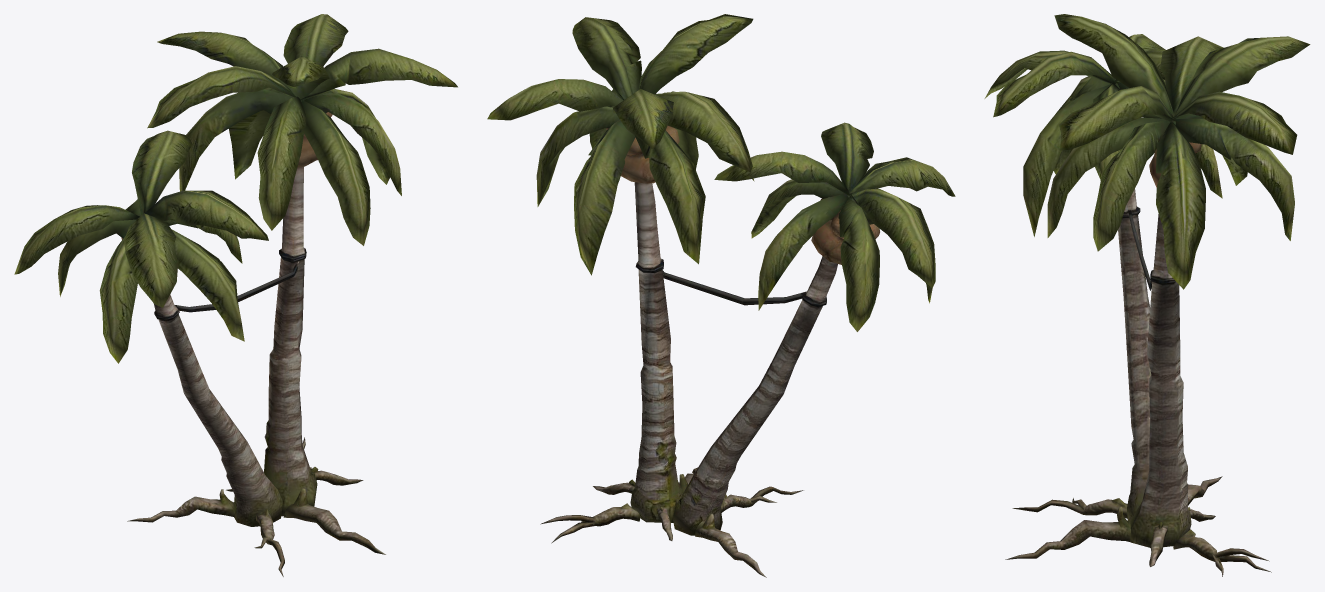
The model's file is coconut_palm.glb.
3 views of the same model, side by side, from view 1: azimuth 30°, elevation 25°; view 2: azimuth 150°, elevation 25°; view 3: azimuth 270°, elevation 25° (orthographic). The views are drawn at different scales.
Parts seen in each view (by area): view 1: Body; view 2: Body; view 3: Body.
Boxes of the visible parts, x1=… form: Body: x1=14, y1=14, x2=457, y2=576; Body: x1=487, y1=14, x2=955, y2=577; Body: x1=984, y1=14, x2=1310, y2=576.
Bounding box in the file's own units: 8.71 × 10 × 5.73.
1 material, 1 textured.
